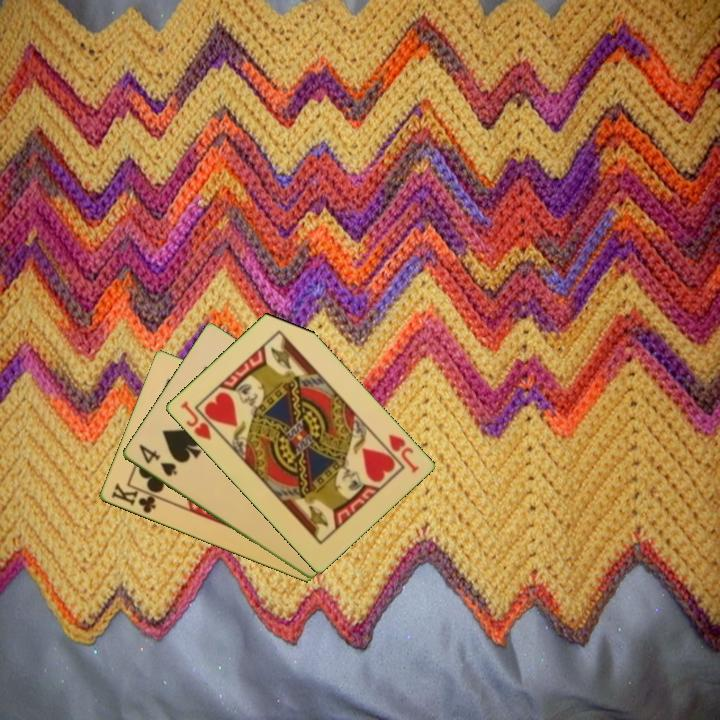4s: (135, 441, 180, 479)
Jh: (176, 398, 223, 443), (384, 431, 422, 476)
Kc: (107, 480, 164, 516)
